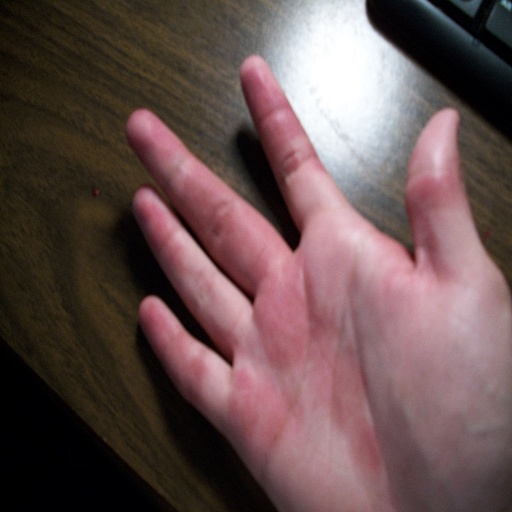hand: (124, 45, 511, 511)
